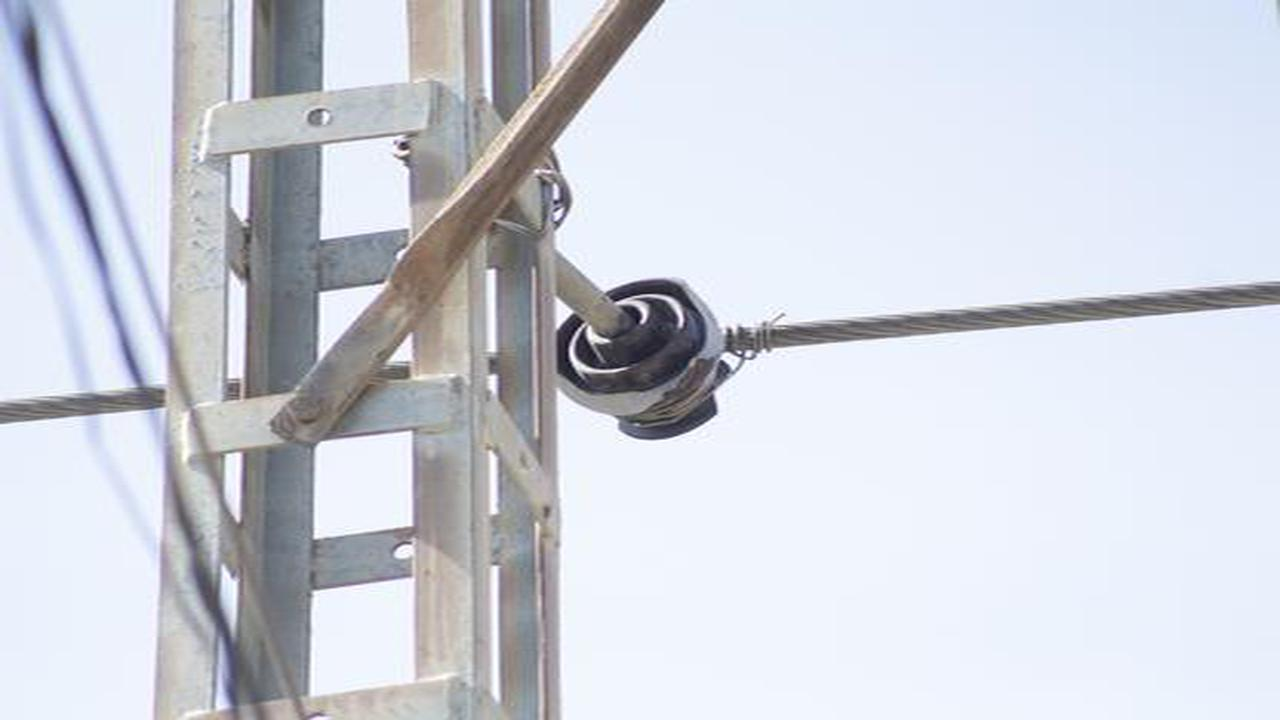defect_pin: (551, 270, 749, 449)
